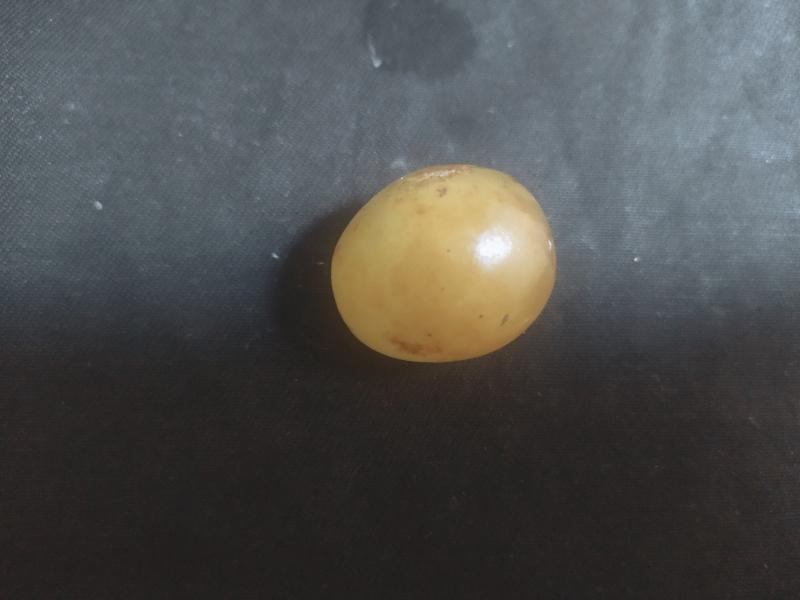Grape Rotten: (329, 162, 558, 364)
